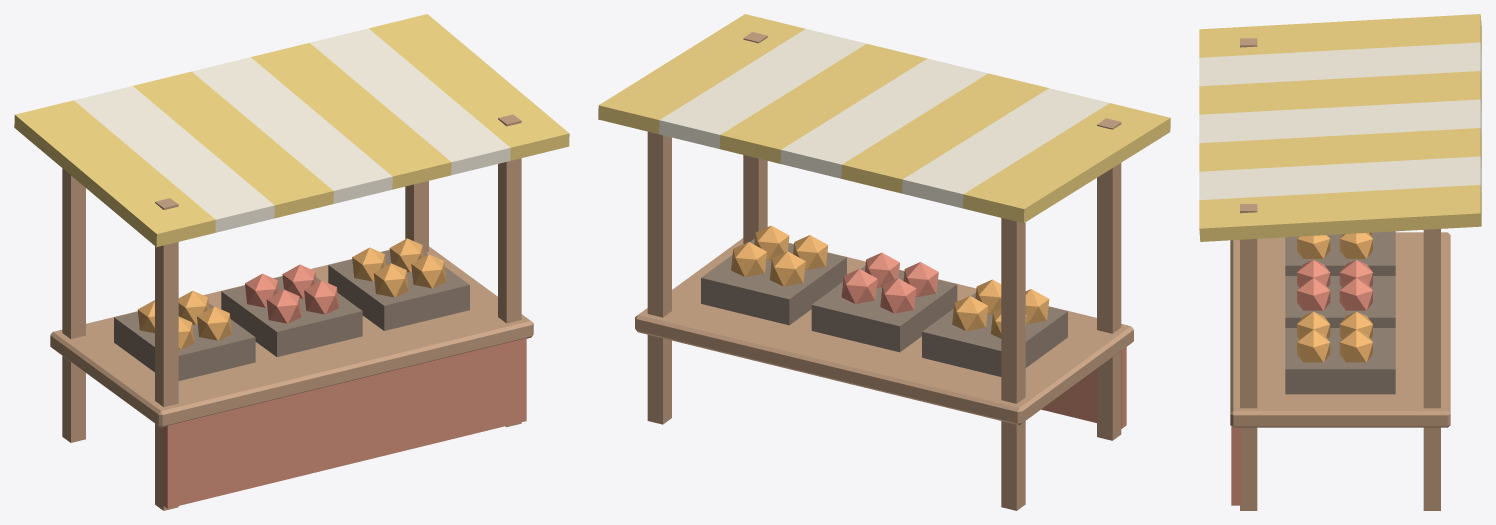
The model's file is market.glb.
3 views of the same model, side by side, from view 1: azimuth 30°, elevation 25°; view 2: azimuth 150°, elevation 25°; view 3: azimuth 270°, elevation 25° (orthographic). The views are drawn at different scales.
Parts seen in each view (by area): view 1: market; view 2: market; view 3: market.
Boxes of the visible parts, x1,y1,x2,y2 form: market: [14, 14, 569, 510]; market: [598, 14, 1170, 510]; market: [1199, 14, 1481, 510].
Bounding box in the file's own units: 3.85 × 2.8 × 2.3.
